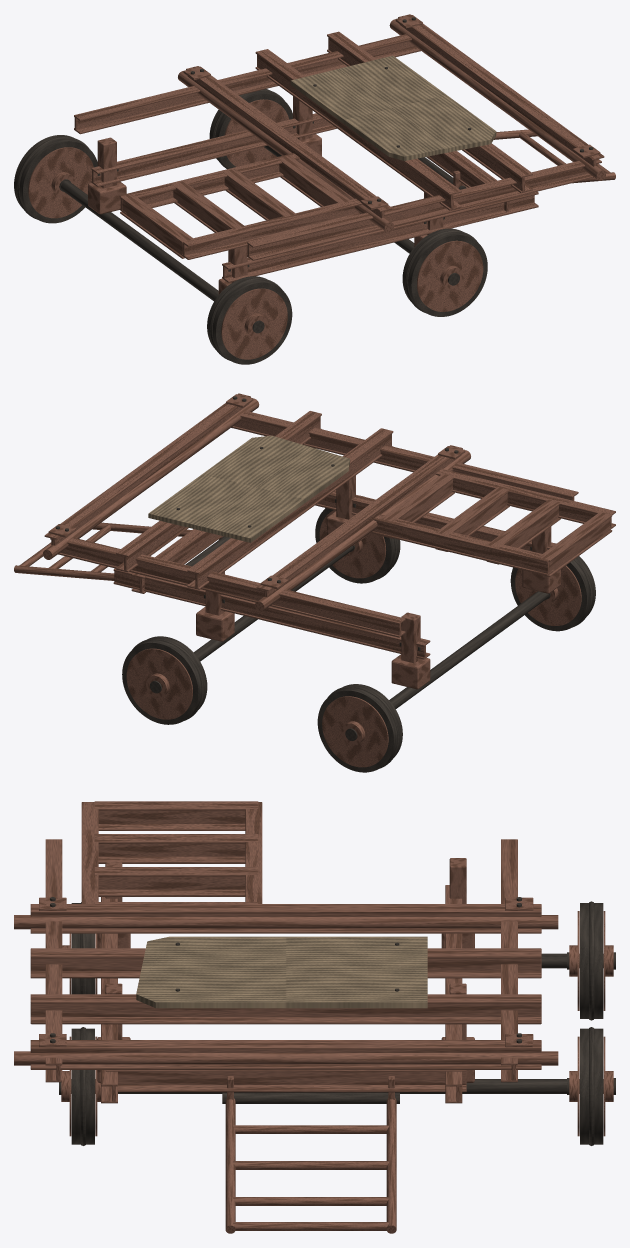
Rendered from station-luggage-trolley.glb.
3 views of the same model, one above another, from view 1: azimuth 30°, elevation 25°; view 2: azimuth 150°, elevation 25°; view 3: azimuth 270°, elevation 25° (orthographic). The views are drawn at different scales.
Parts seen in each view (by area): view 1: Station luggage trolley / Faded red oxide paint with pitting, Station luggage trolley / Weathered grey brown timber deck g, Station luggage trolley / Worn cast iron wheel tread and axl; view 2: Station luggage trolley / Faded red oxide paint with pitting, Station luggage trolley / Weathered grey brown timber deck g, Station luggage trolley / Worn cast iron wheel tread and axl; view 3: Station luggage trolley / Faded red oxide paint with pitting, Station luggage trolley / Weathered grey brown timber deck g, Station luggage trolley / Worn cast iron wheel tread and axl.
Boxes of the visible parts, x1,y1,x2,y2 form: Station luggage trolley / Faded red oxide paint with pitting: (28, 14, 615, 359); Station luggage trolley / Weathered grey brown timber deck g: (290, 55, 496, 160); Station luggage trolley / Worn cast iron wheel tread and axl: (14, 17, 593, 364); Station luggage trolley / Faded red oxide paint with pitting: (14, 393, 615, 767); Station luggage trolley / Weathered grey brown timber deck g: (148, 435, 349, 542); Station luggage trolley / Worn cast iron wheel tread and axl: (55, 396, 595, 772); Station luggage trolley / Faded red oxide paint with pitting: (14, 801, 613, 1233); Station luggage trolley / Weathered grey brown timber deck g: (136, 936, 427, 1008); Station luggage trolley / Worn cast iron wheel tread and axl: (50, 897, 615, 1145).
Size of the model in its own units: 2.65 by 0.755 by 2.17.
Materials: 3 (3 with a texture image).
